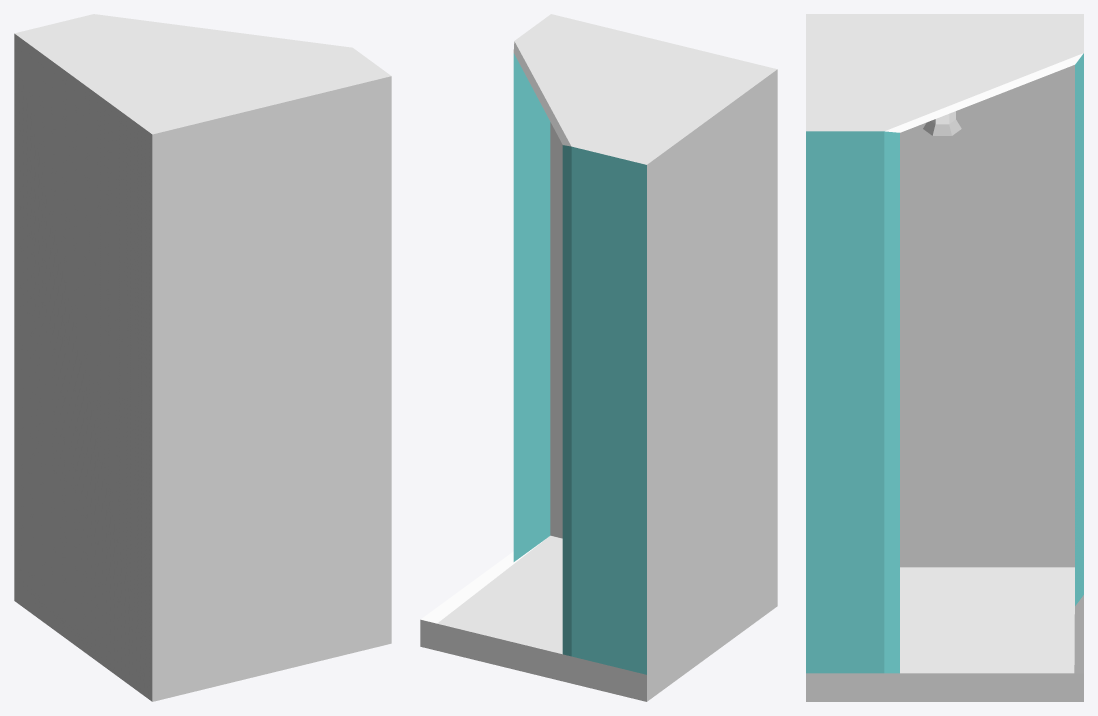
Rendered from Shower.fbx.
The picture shows the model from 3 angles, left to right: view 1: azimuth 30°, elevation 25°; view 2: azimuth 150°, elevation 25°; view 3: azimuth 270°, elevation 25°; orthographic projection. The views are drawn at different scales.
Parts seen in each view (by area): view 1: Cube; view 2: Cube; view 3: Cube.
Part boxes in pixels (x1,y1,x2,y2): Cube: (14,14,391,701); Cube: (420,14,777,701); Cube: (806,14,1083,701).
Bounding box in the file's own units: 86.6 × 196 × 86.6.
